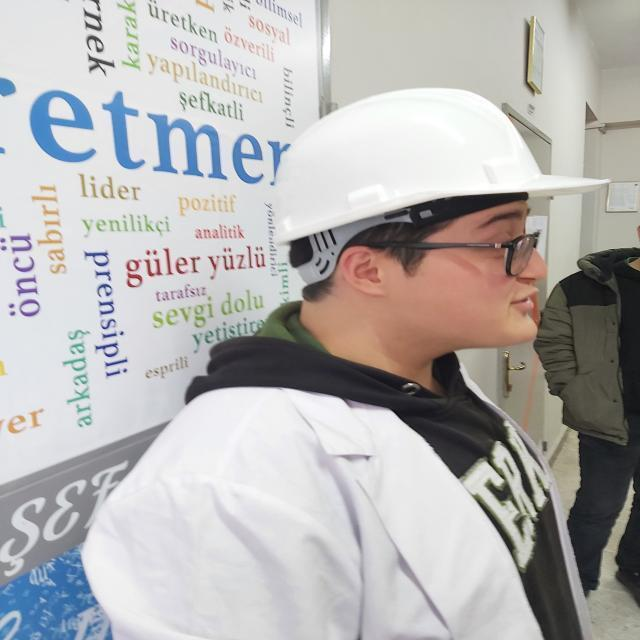helmet: (276, 89, 606, 242)
